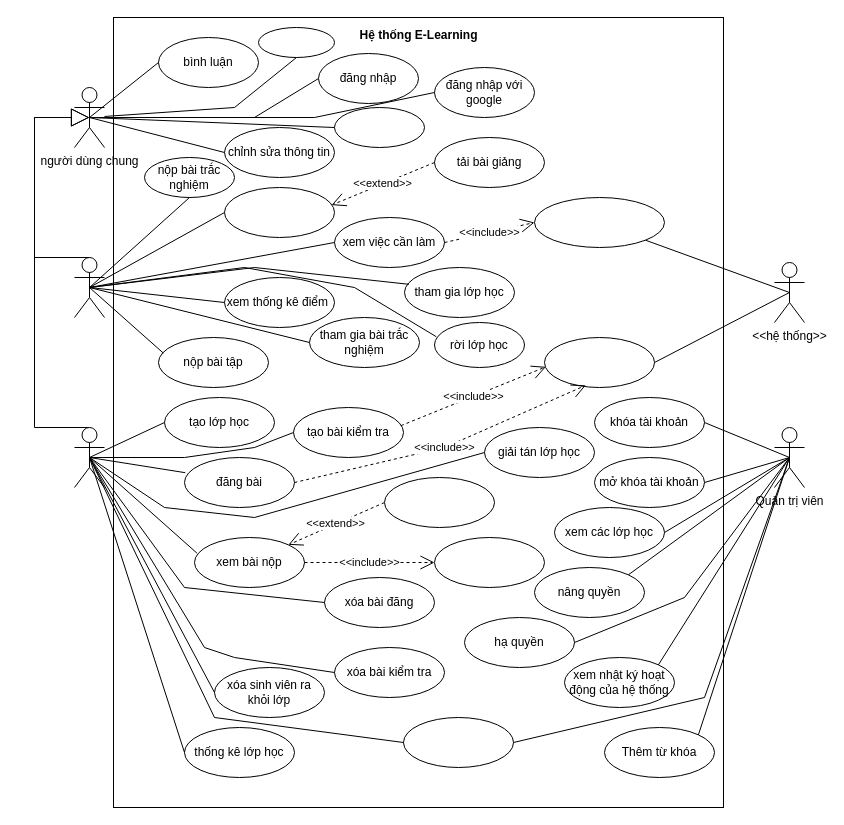
The diagram is 844 pixels wide and 825 high, and some of its shapes have lost their labels. Each missing label, with the centre of its shape:
chấm điểm: point (489, 562)
giảng viên: point (89, 457)
gửi bài tập gần đến hạn: point (599, 222)
gửi email thông báo: point (599, 362)
nhắn tin: point (379, 127)
sinh viên: point (89, 287)
tải bài nộp: point (439, 502)
xem bài giảng: point (279, 212)
xem sinh viên trong lớp: point (458, 742)
đăngký: point (296, 42)
